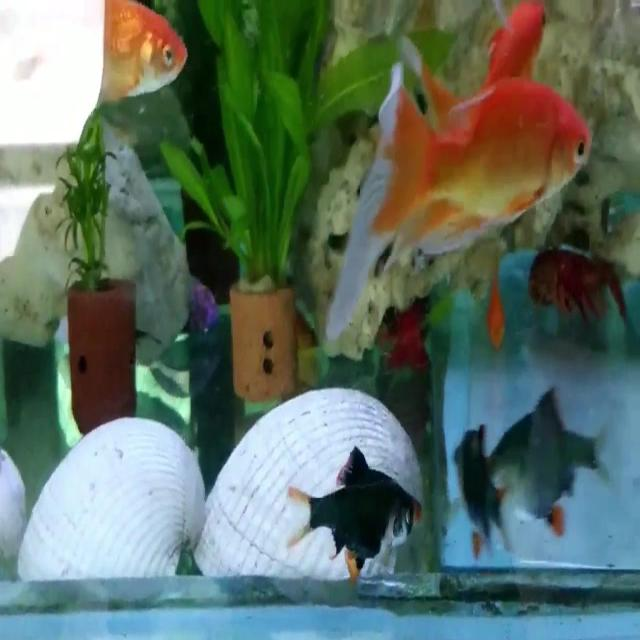GoldFish: (318, 55, 600, 366), (103, 3, 188, 105)
